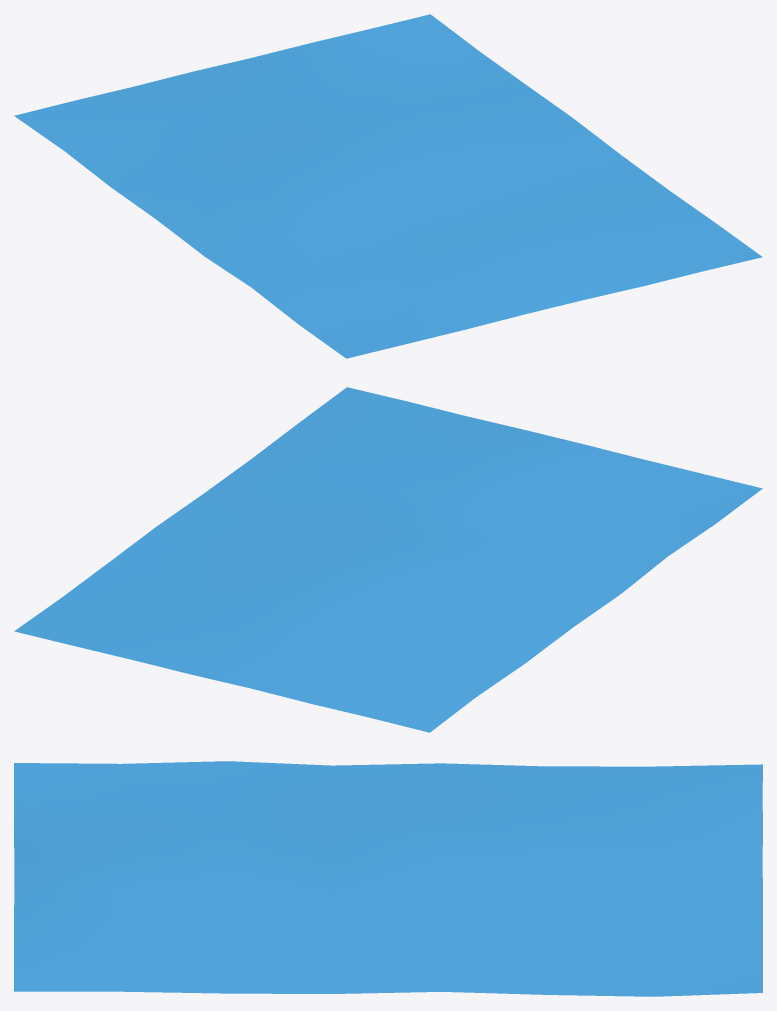
Rendered from SM_Water.fbx.
3 renders of one model, top to bottom at view 1: azimuth 30°, elevation 25°; view 2: azimuth 150°, elevation 25°; view 3: azimuth 270°, elevation 25°, orthographic. The views are drawn at different scales.
Parts seen in each view (by area): view 1: Plane.004; view 2: Plane.004; view 3: Plane.004.
Boxes of the visible parts, bbox=[...] form: Plane.004: bbox=[14, 14, 762, 358]; Plane.004: bbox=[14, 387, 762, 732]; Plane.004: bbox=[14, 761, 762, 996].
Size of the model in its own units: 2775 by 78.88 by 3825.
